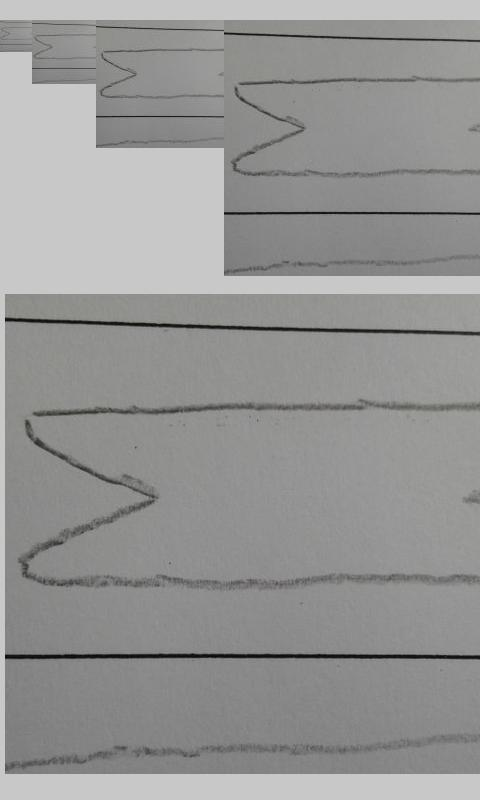edit_text: (23, 397, 480, 591), (232, 79, 480, 177), (100, 48, 224, 100), (34, 34, 96, 60), (1, 26, 32, 41)
